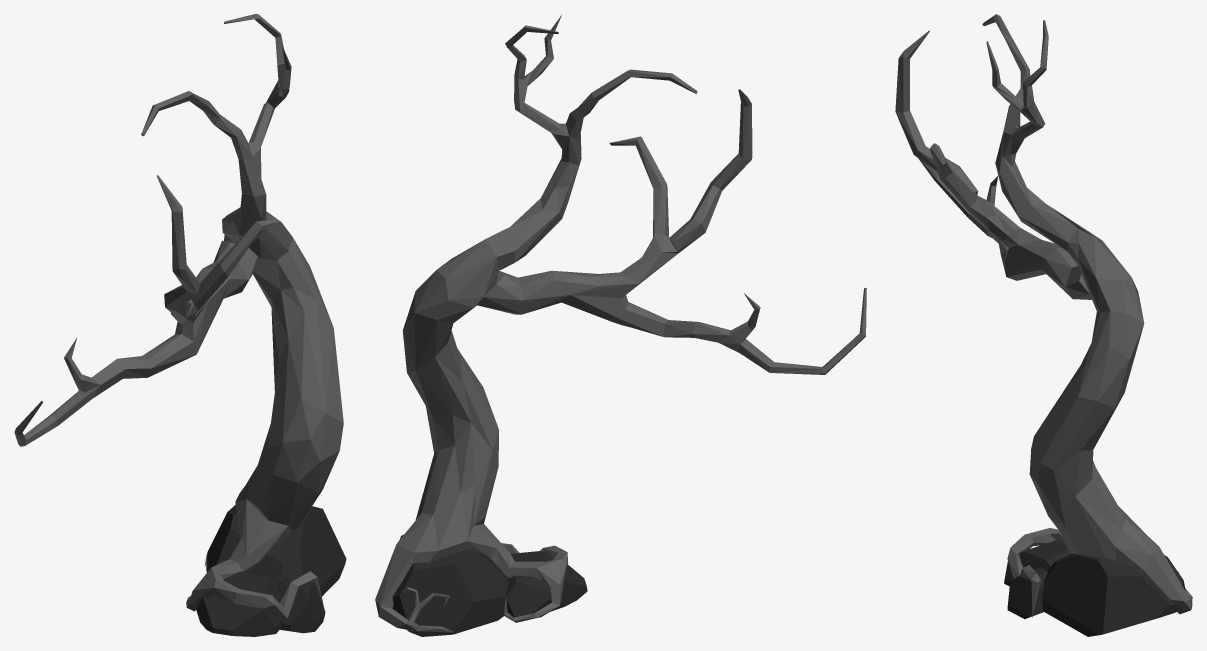
Rendered from HWN20_Tree_06.glb.
The picture shows the model from 3 angles, left to right: view 1: azimuth 30°, elevation 25°; view 2: azimuth 150°, elevation 25°; view 3: azimuth 270°, elevation 25°; orthographic projection. The views are drawn at different scales.
Visible parts, largest first — view 1: HWN20_Tree_06; view 2: HWN20_Tree_06; view 3: HWN20_Tree_06.
Part boxes in pixels (bbox=[...]): HWN20_Tree_06: bbox=[14, 14, 346, 636]; HWN20_Tree_06: bbox=[375, 15, 866, 636]; HWN20_Tree_06: bbox=[895, 14, 1192, 636].
Size of what is drawn, in the model's own units: 5.84 by 8.09 by 3.89.
Materials: 1 (1 with a texture image).
